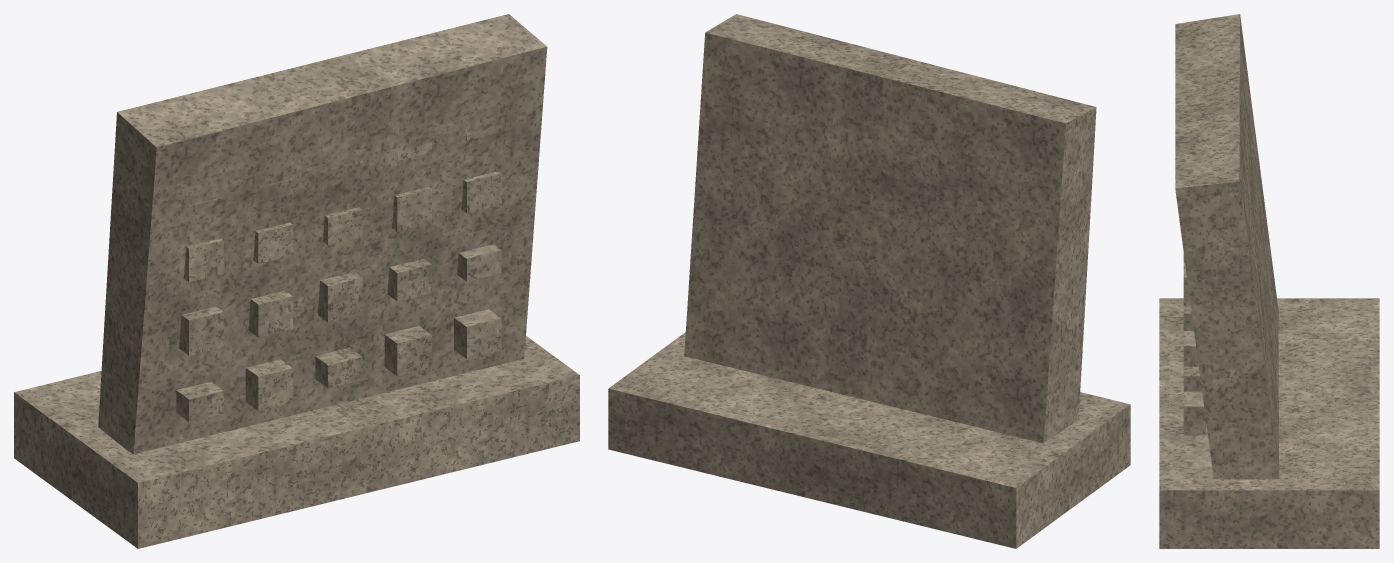
File: find-inscription.glb
3 views of the same model, side by side, from view 1: azimuth 30°, elevation 25°; view 2: azimuth 150°, elevation 25°; view 3: azimuth 270°, elevation 25° (orthographic). The views are drawn at different scales.
Visible parts, largest first — view 1: find-inscription; view 2: find-inscription; view 3: find-inscription.
Part boxes in pixels (x1=…): find-inscription: x1=14, y1=14, x2=579, y2=548; find-inscription: x1=608, y1=14, x2=1130, y2=548; find-inscription: x1=1159, y1=14, x2=1379, y2=548.
Bounding box in the file's own units: 0.7 × 0.6106 × 0.34.
Materials: 1 (1 with a texture image).
